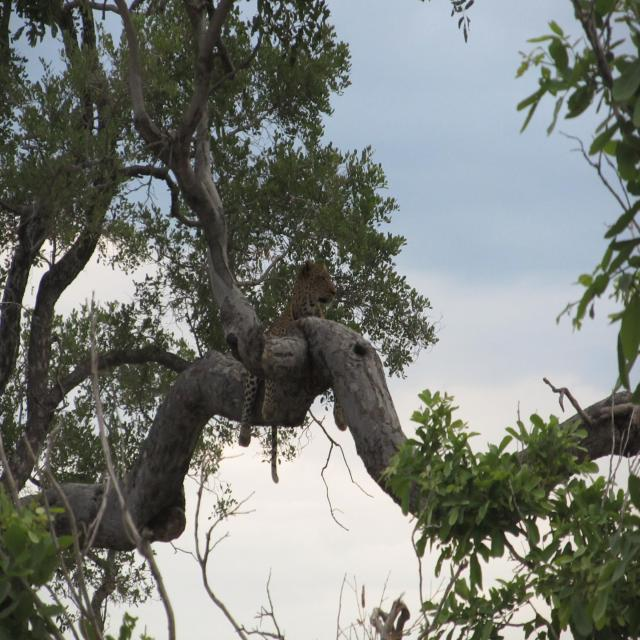Leopard: (217, 274, 352, 482)
